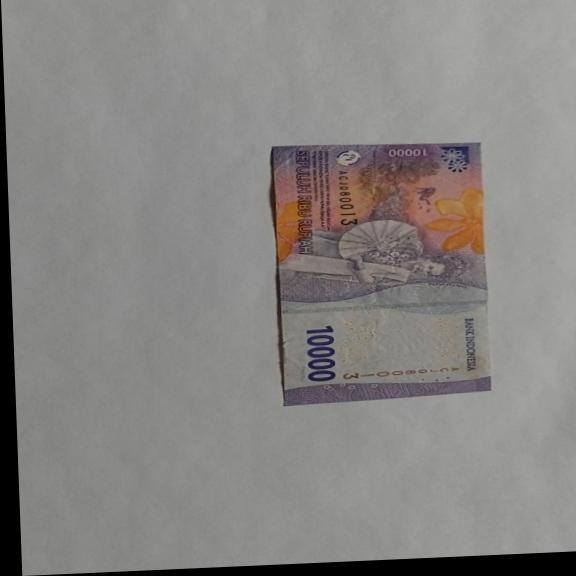Kertas: (268, 137, 493, 406), (303, 325, 339, 382)
